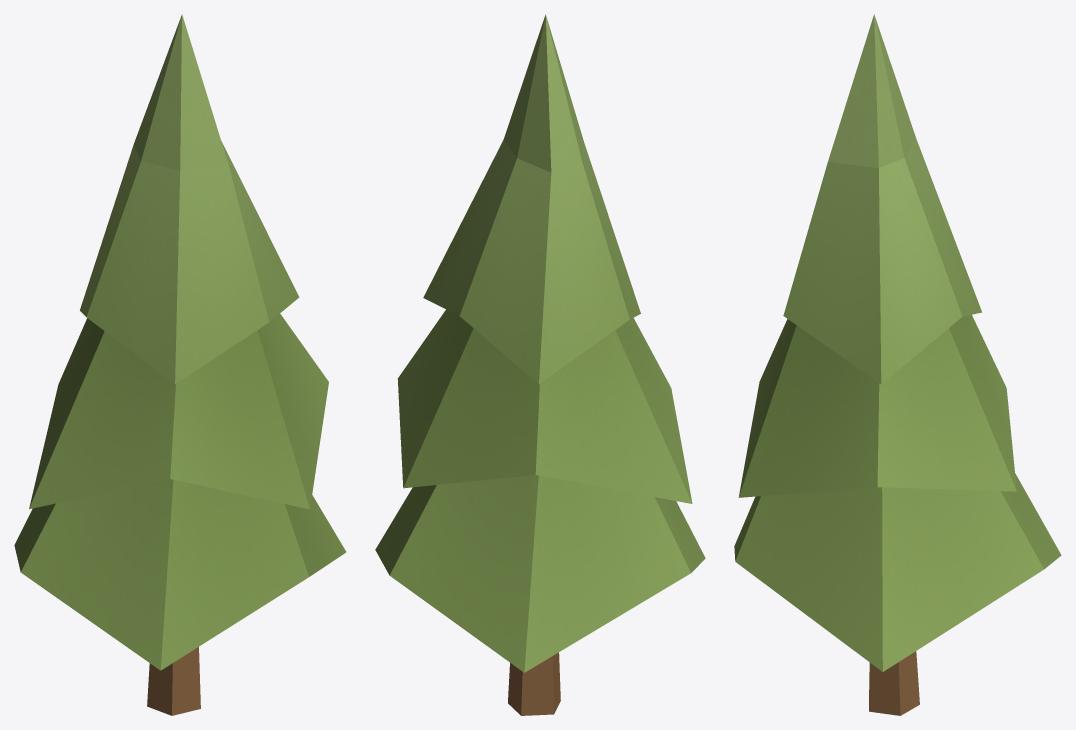
File: Pine_Tree_s_BT_01.fbx
3 views of the same model, side by side, from view 1: azimuth 30°, elevation 25°; view 2: azimuth 150°, elevation 25°; view 3: azimuth 270°, elevation 25° (orthographic).
Visible parts, largest first — view 1: Pine_Tree_s_BT_01; view 2: Pine_Tree_s_BT_01; view 3: Pine_Tree_s_BT_01.
Boxes of the visible parts, bbox=[...] form: Pine_Tree_s_BT_01: bbox=[14, 14, 346, 715]; Pine_Tree_s_BT_01: bbox=[375, 14, 705, 715]; Pine_Tree_s_BT_01: bbox=[734, 14, 1061, 715].
Bounding box in the file's own units: 133 × 274 × 118.
